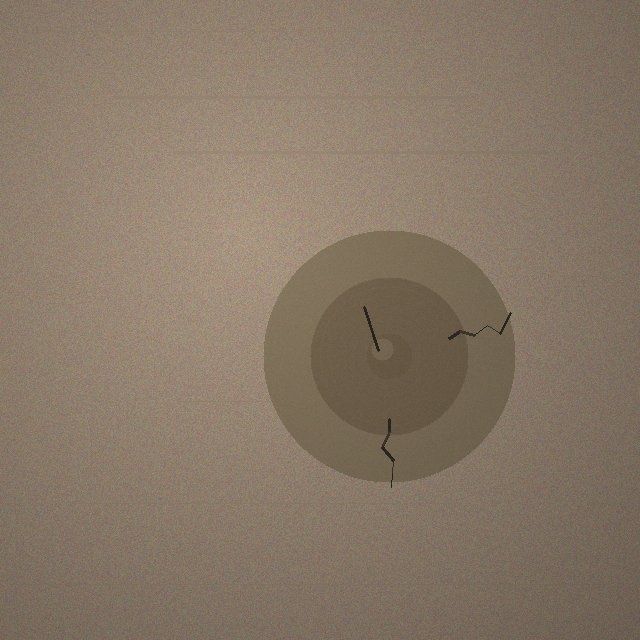crack: (263, 230, 515, 482)
